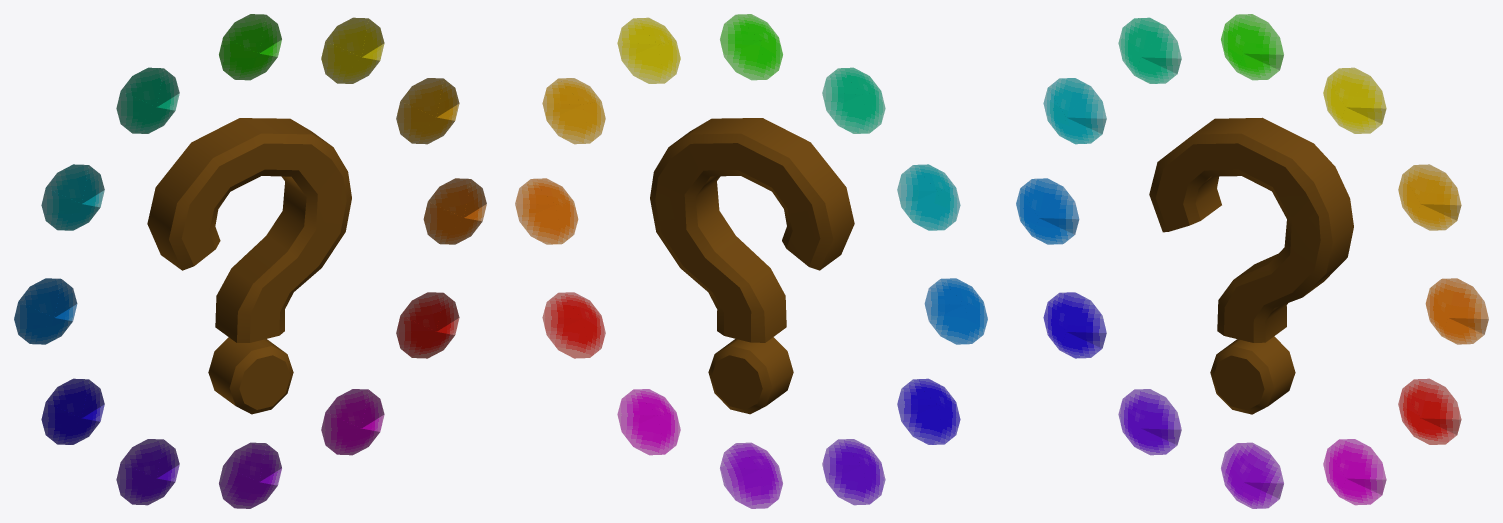
Rendered from Ob_HintRing.obj.
3 renders of one model, left to right at view 1: azimuth 30°, elevation 25°; view 2: azimuth 150°, elevation 25°; view 3: azimuth 330°, elevation 25°, orthographic.
Parts seen in each view (by area): view 1: polygon0, polygon4, polygon10, polygon5, polygon11, polygon1, polygon6, polygon7, polygon12, polygon2, polygon8, polygon3 (+1 smaller); view 2: polygon0, polygon4, polygon10, polygon5, polygon11, polygon1, polygon6, polygon7, polygon12, polygon2, polygon8, polygon3 (+1 smaller); view 3: polygon0, polygon4, polygon10, polygon3, polygon9, polygon1, polygon2, polygon7, polygon8, polygon6, polygon12, polygon5 (+1 smaller).
Part boxes in pixels (bbox=[...]): polygon0: bbox=[147, 118, 351, 414]; polygon4: bbox=[423, 178, 486, 244]; polygon10: bbox=[14, 278, 77, 344]; polygon5: bbox=[396, 292, 459, 358]; polygon11: bbox=[41, 164, 104, 230]; polygon1: bbox=[219, 14, 281, 80]; polygon6: bbox=[321, 389, 384, 455]; polygon7: bbox=[219, 442, 281, 508]; polygon12: bbox=[116, 67, 179, 133]; polygon2: bbox=[321, 17, 384, 83]; polygon8: bbox=[116, 439, 179, 505]; polygon3: bbox=[396, 78, 459, 144]; polygon0: bbox=[650, 118, 854, 414]; polygon4: bbox=[515, 178, 578, 244]; polygon10: bbox=[924, 278, 987, 344]; polygon5: bbox=[542, 292, 605, 358]; polygon11: bbox=[897, 164, 960, 230]; polygon1: bbox=[720, 14, 782, 80]; polygon6: bbox=[617, 389, 680, 455]; polygon7: bbox=[720, 442, 782, 508]; polygon12: bbox=[822, 67, 885, 133]; polygon2: bbox=[617, 17, 680, 83]; polygon8: bbox=[822, 439, 885, 505]; polygon3: bbox=[542, 78, 605, 144]; polygon0: bbox=[1149, 117, 1353, 414]; polygon4: bbox=[1425, 278, 1488, 344]; polygon10: bbox=[1016, 178, 1079, 244]; polygon3: bbox=[1398, 164, 1461, 230]; polygon9: bbox=[1043, 292, 1106, 358]; polygon1: bbox=[1221, 14, 1283, 80]; polygon2: bbox=[1323, 67, 1386, 133]; polygon7: bbox=[1221, 442, 1283, 508]; polygon8: bbox=[1118, 389, 1181, 455]; polygon6: bbox=[1323, 439, 1386, 505]; polygon12: bbox=[1118, 17, 1181, 83]; polygon5: bbox=[1398, 378, 1461, 444].
Size of the model in its own units: 14.75 by 14.75 by 1.51.
2 materials, 2 textured.
